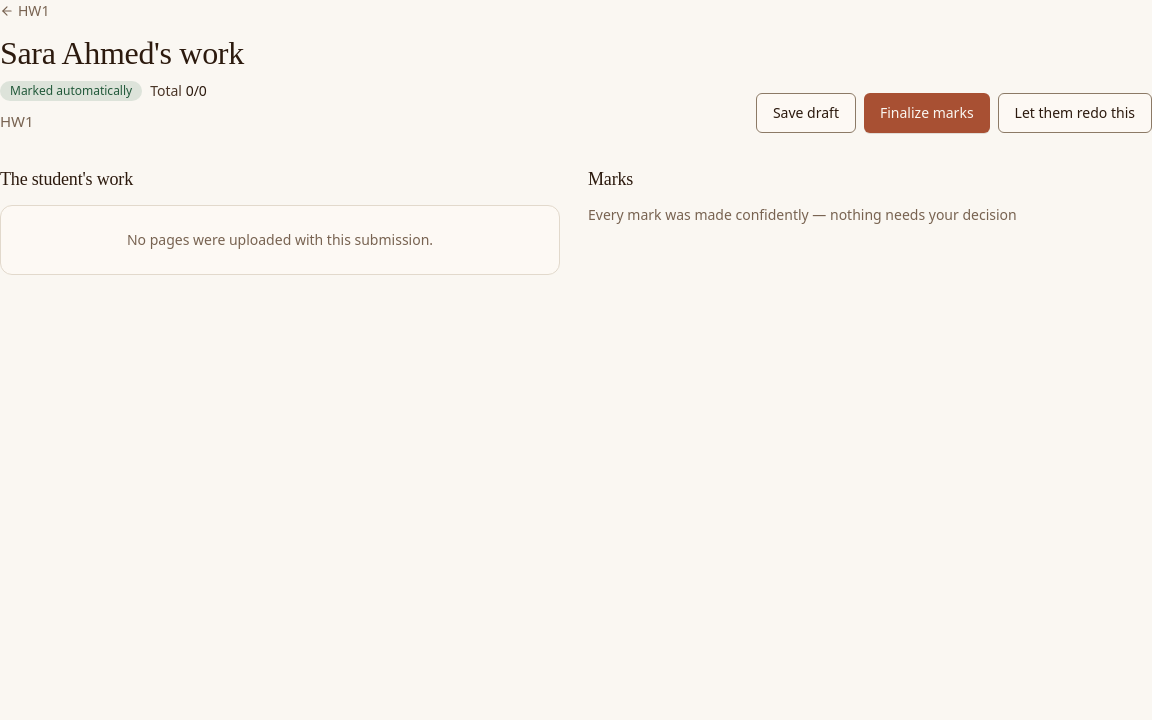
the dialog names the student, says what will happen, and Cancel has focus
Click the button "Let them redo this": {"x": 1075, "y": 113} x1=998 y1=93 x2=1151 y2=133
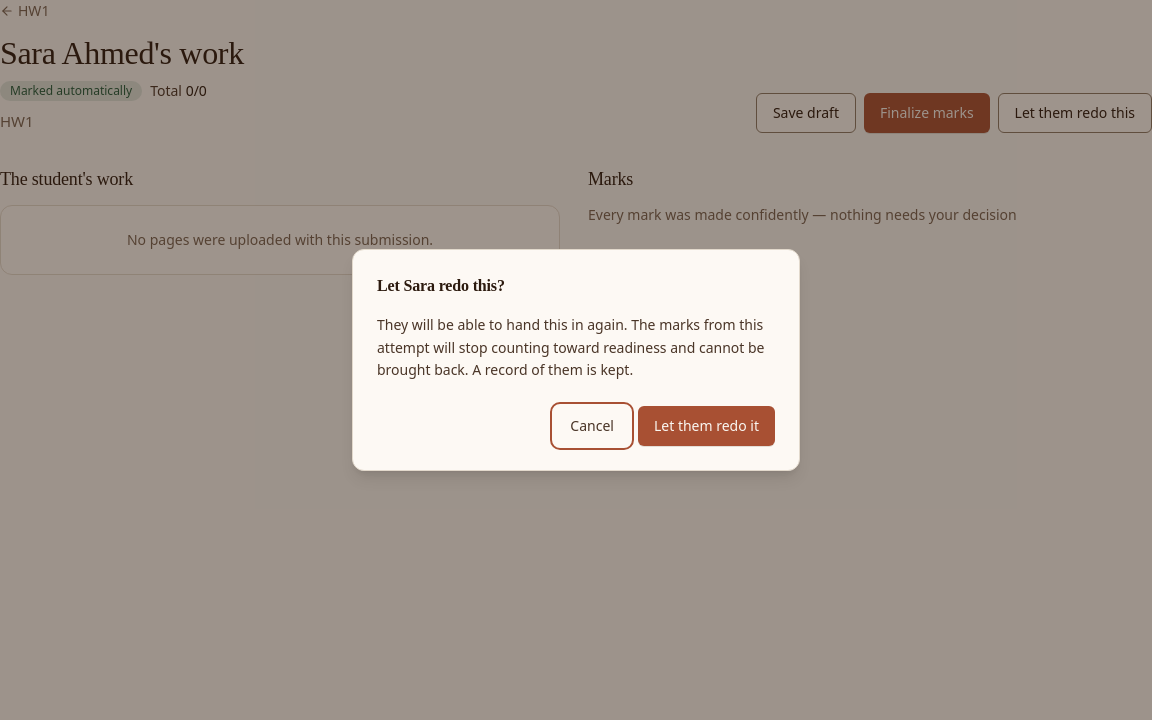
Now the dialog "Let Sara redo this?" shows "They will be able to hand this in again.", box x1=377 y1=315 x2=764 y2=379
Now the dialog "Let Sara redo this?" shows "stop counting toward readiness and cannot be brought back", box x1=377 y1=315 x2=764 y2=379
Now the dialog "Let Sara redo this?" shows "A record of them is kept.", box x1=377 y1=315 x2=764 y2=379
